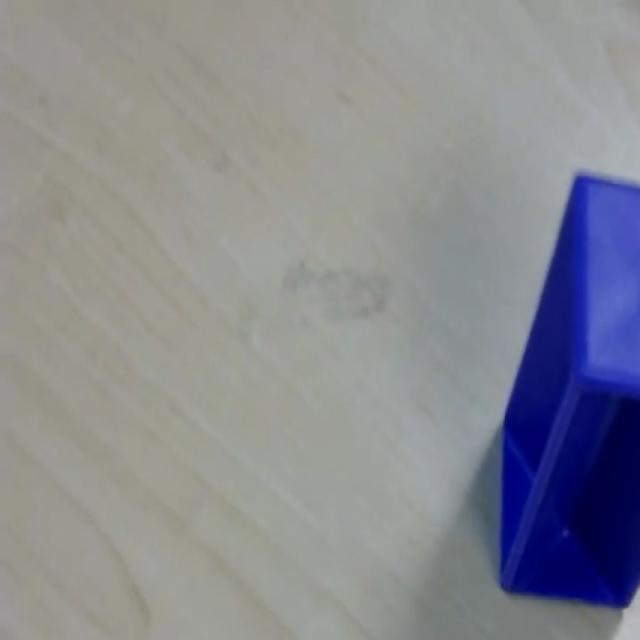blue_block: (498, 168, 640, 609)
